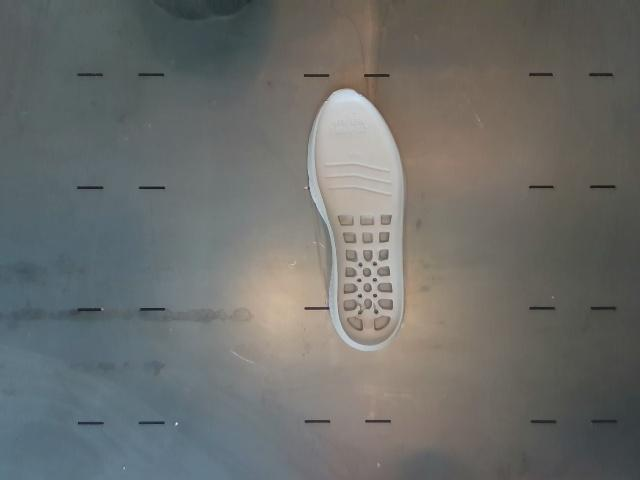shoes: (315, 90, 403, 346)
